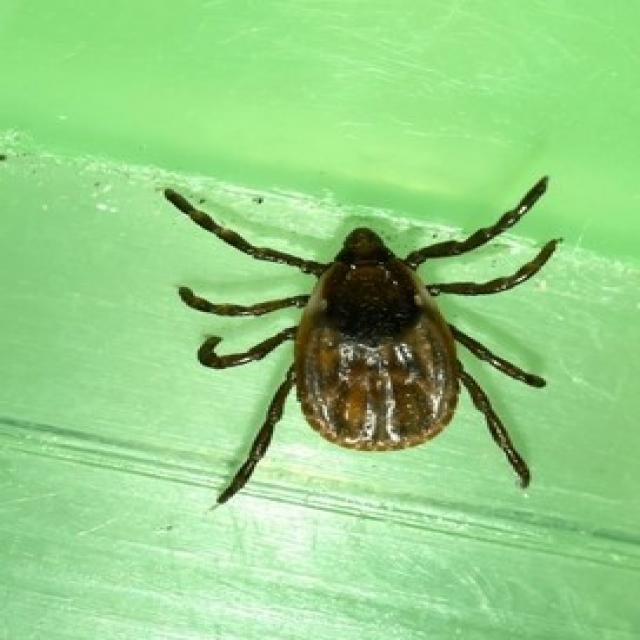Rhipicephalus Sanguineus-F: (162, 175, 560, 505)
